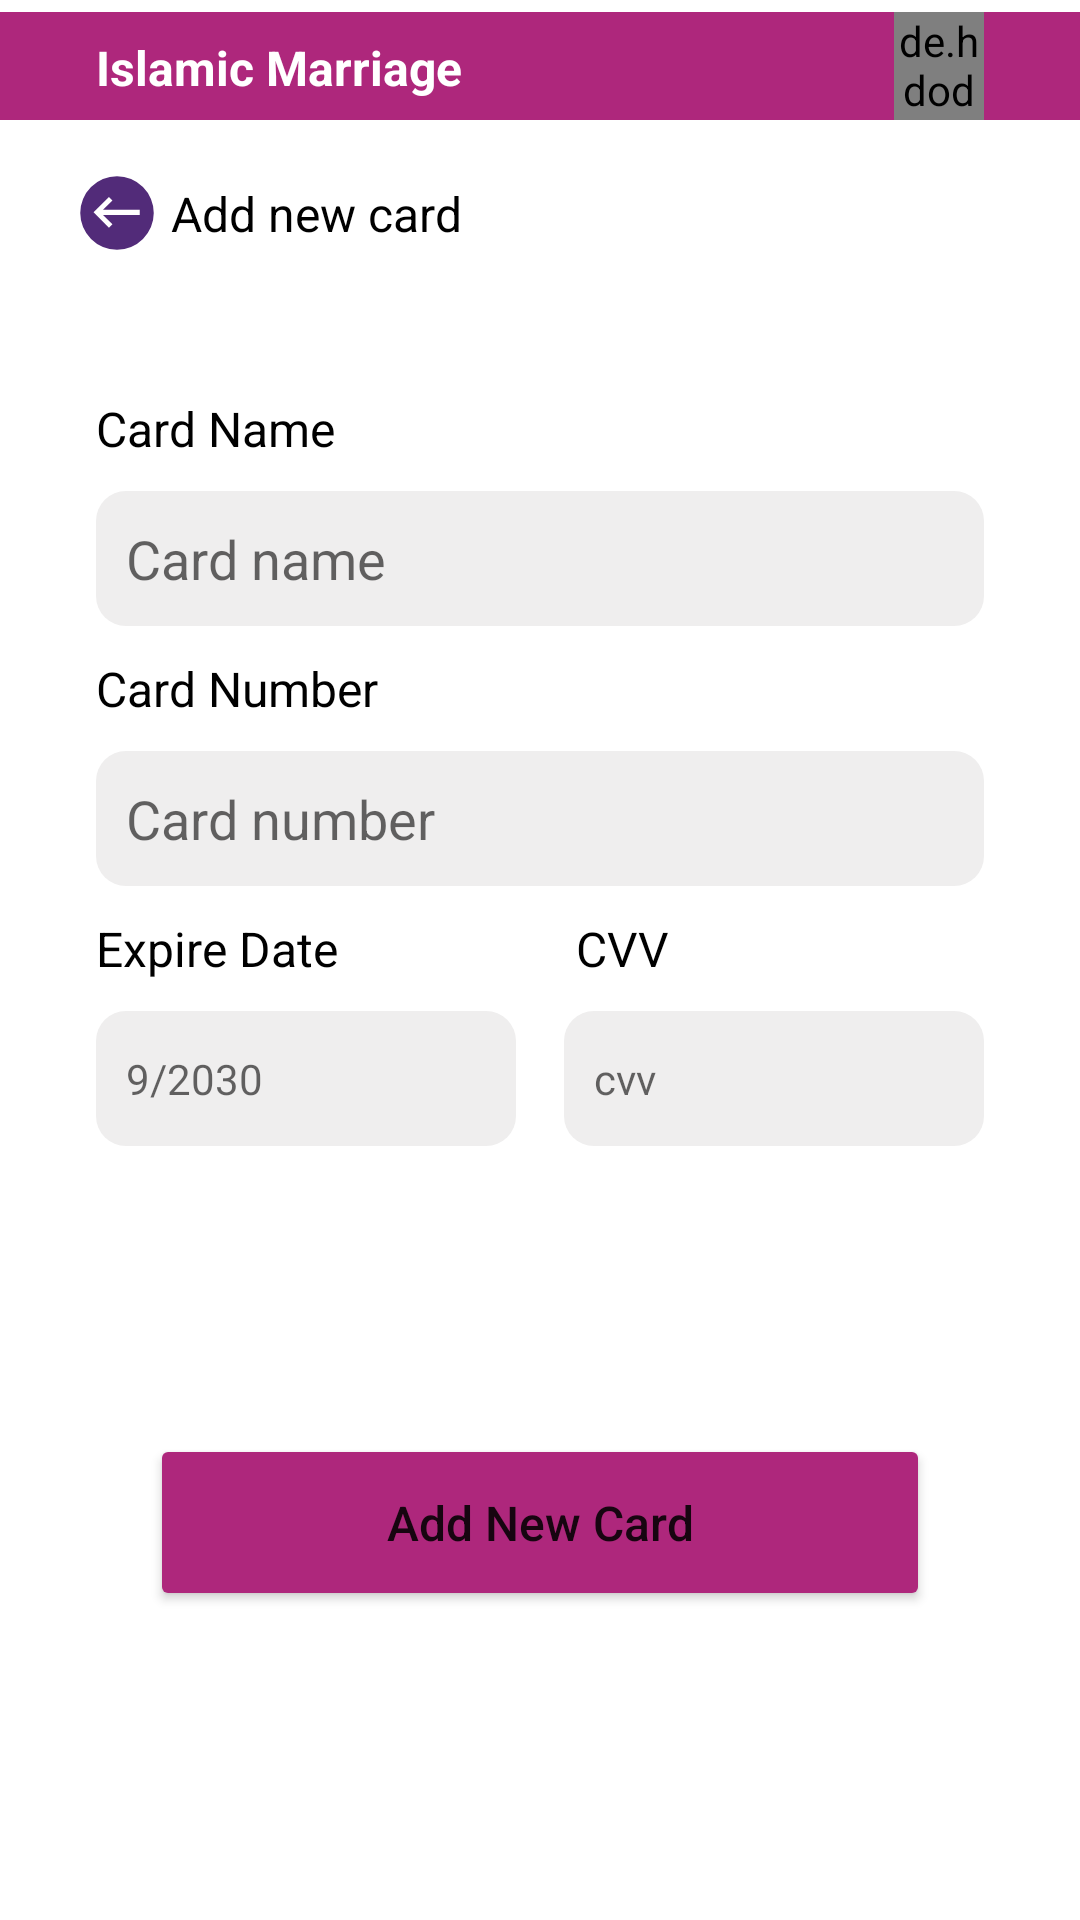

Where to tap for icons on this 1080 × 1920 app screen, as (x,y):
back: (117,213)
